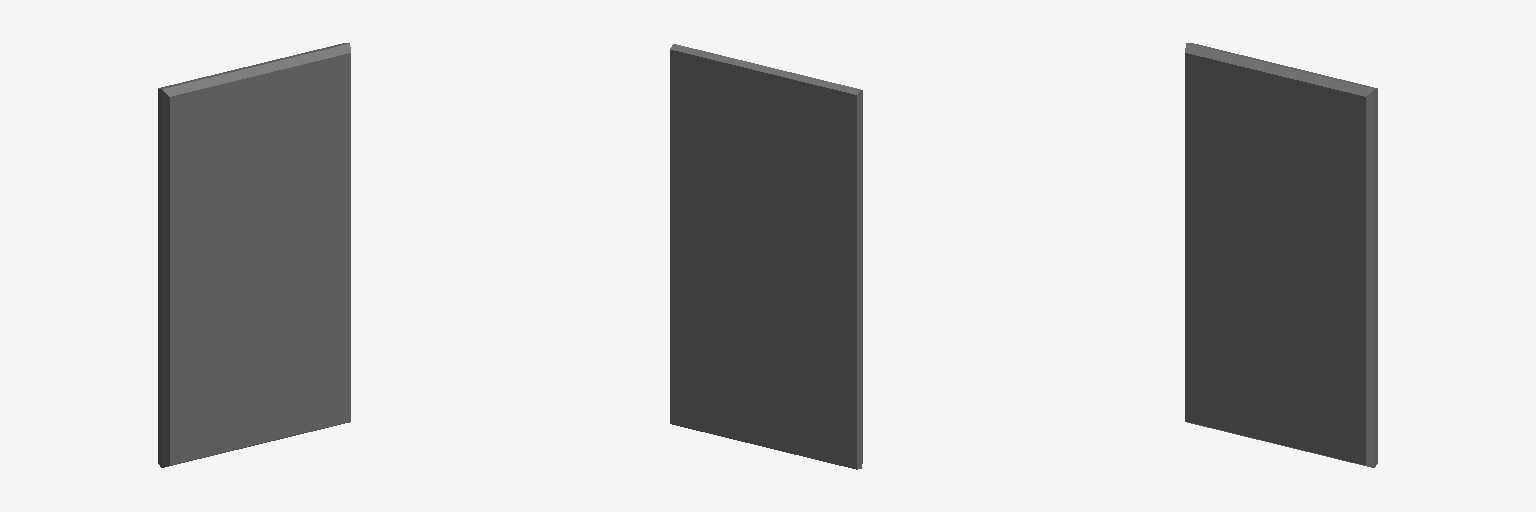
File: FridgePuertaInferior.obj
3 views of the same model, side by side, from view 1: azimuth 30°, elevation 25°; view 2: azimuth 150°, elevation 25°; view 3: azimuth 330°, elevation 25° (orthographic).
Visible parts, largest first — view 1: polySurface1 B_Electric_0_007_2; view 2: polySurface1 B_Electric_0_007_2; view 3: polySurface1 B_Electric_0_007_2.
Boxes of the visible parts, <box> form: polySurface1 B_Electric_0_007_2: <box>158,43,350,467</box>; polySurface1 B_Electric_0_007_2: <box>670,44,862,469</box>; polySurface1 B_Electric_0_007_2: <box>1185,43,1377,467</box>.
Bounding box in the file's own units: 0.9525 × 1.83 × 0.0818.